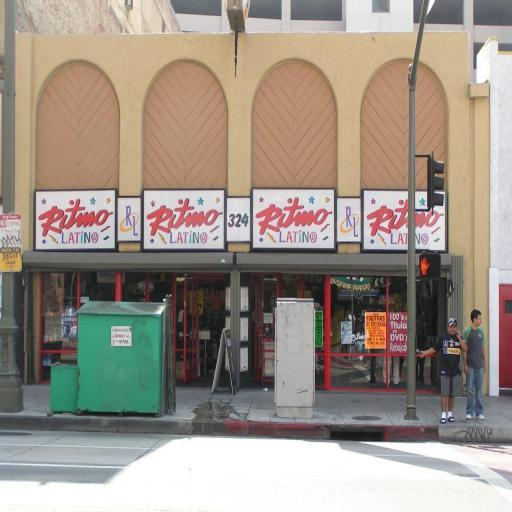trash-can: (72, 294, 172, 426)
